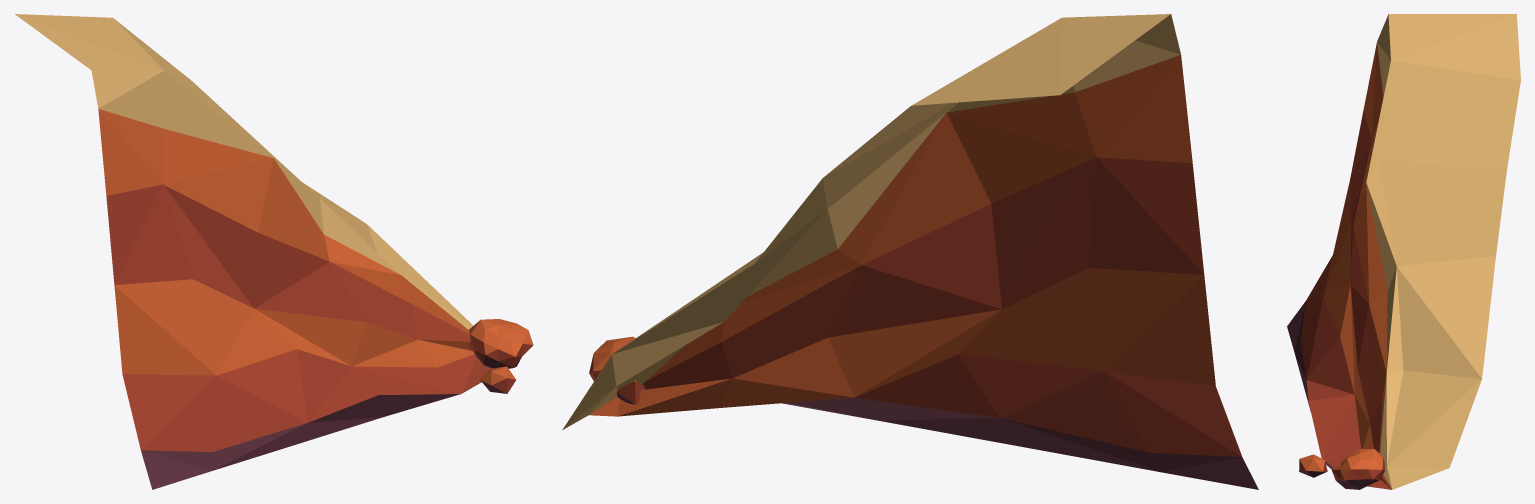
Rendered from Mtn_End.fbx.
3 views of the same model, side by side, from view 1: azimuth 30°, elevation 25°; view 2: azimuth 150°, elevation 25°; view 3: azimuth 270°, elevation 25° (orthographic). The views are drawn at different scales.
Parts seen in each view (by area): view 1: Mtn_End; view 2: Mtn_End; view 3: Mtn_End.
Part boxes in pixels (x1=…): Mtn_End: x1=15, y1=14, x2=533, y2=489; Mtn_End: x1=562, y1=14, x2=1258, y2=489; Mtn_End: x1=1287, y1=14, x2=1520, y2=489.
Bounding box in the file's own units: 20.89 × 18 × 12.22.
